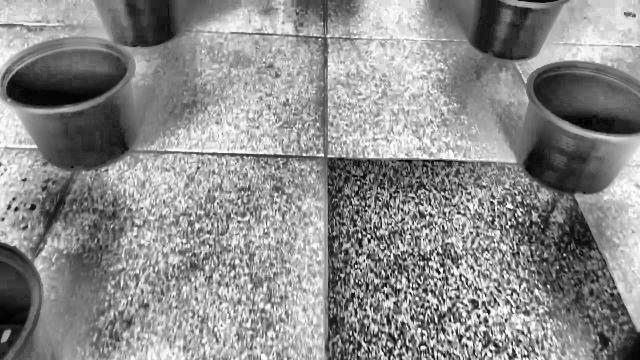pot: (0, 38, 139, 171), (518, 62, 640, 194)
